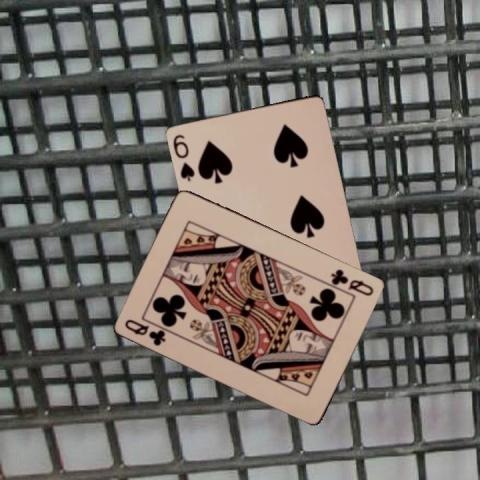6s: (169, 131, 196, 183)
Qc: (328, 266, 375, 298), (122, 316, 167, 347)
